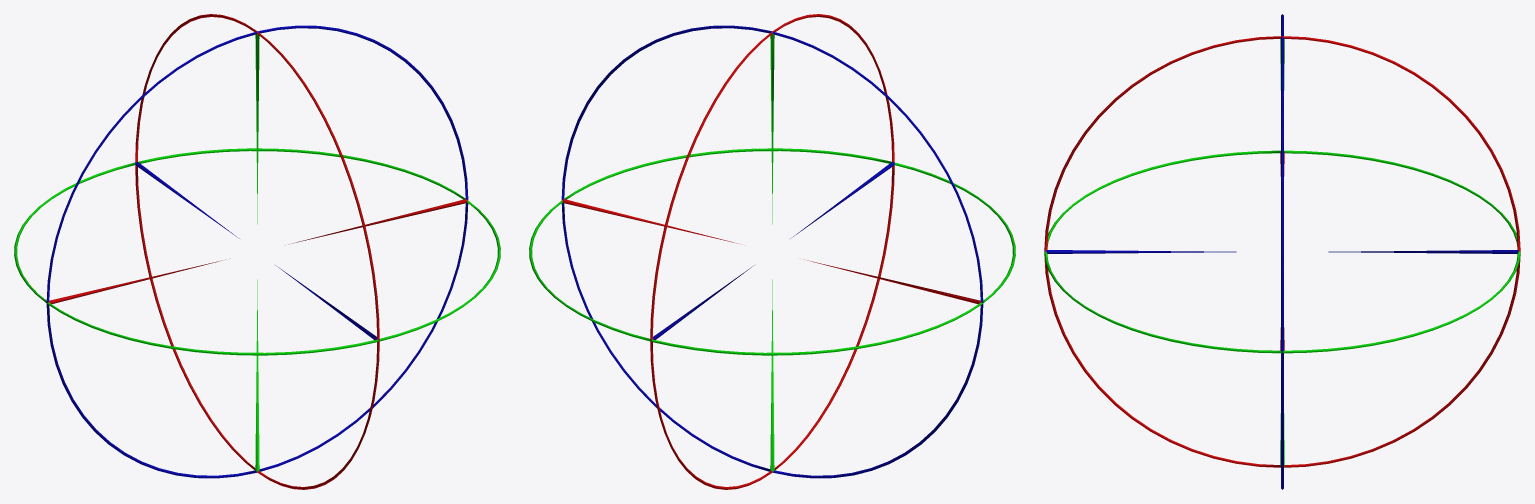
File: gimbal.dae
The picture shows the model from 3 angles, left to right: view 1: azimuth 30°, elevation 25°; view 2: azimuth 150°, elevation 25°; view 3: azimuth 270°, elevation 25°; orthographic projection. The views are drawn at different scales.
Visible parts, largest first — view 1: Gimbal-0; view 2: Gimbal-0; view 3: Gimbal-0.
Part boxes in pixels (x1,y1,x2,y2): Gimbal-0: (14,14,500,489); Gimbal-0: (529,14,1015,489); Gimbal-0: (1044,14,1520,489).
Size of the model in its own units: 2.01 by 2.01 by 2.01.
